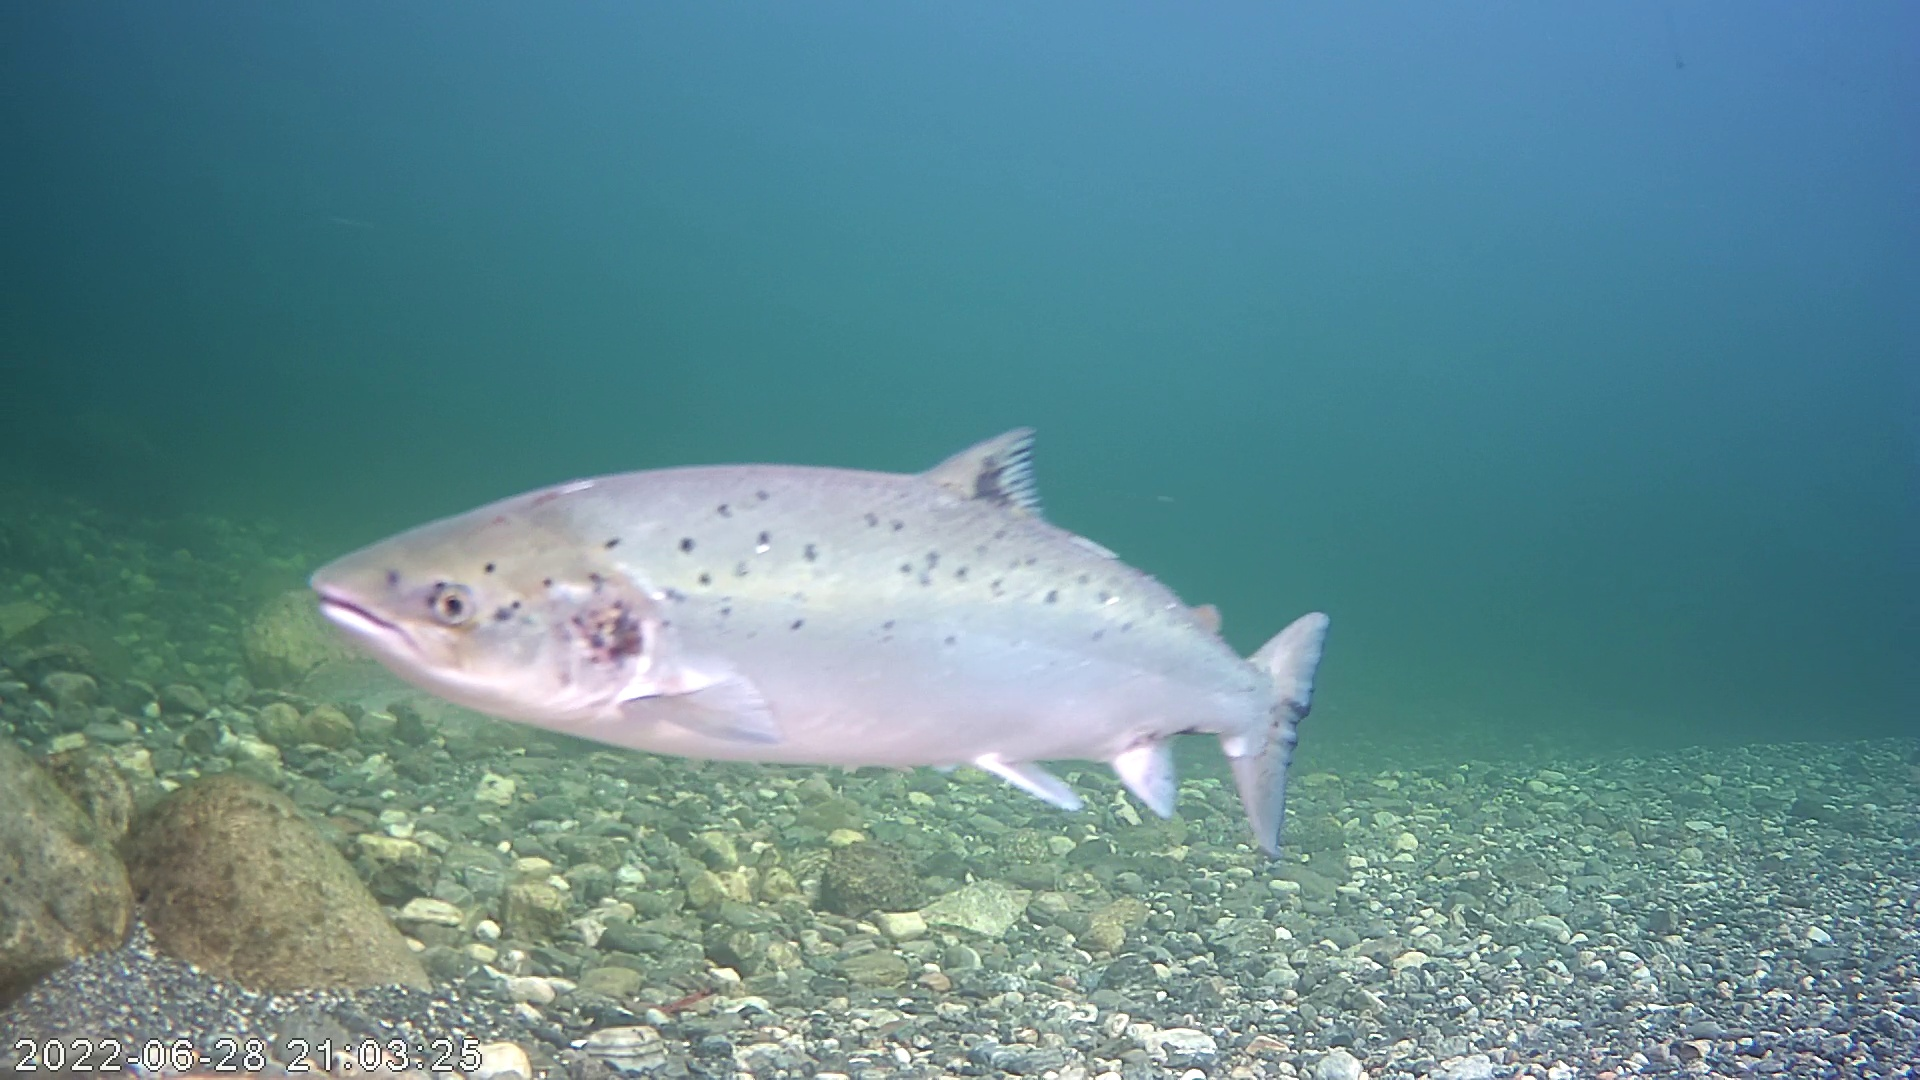salmon: (262, 332, 1345, 878)
